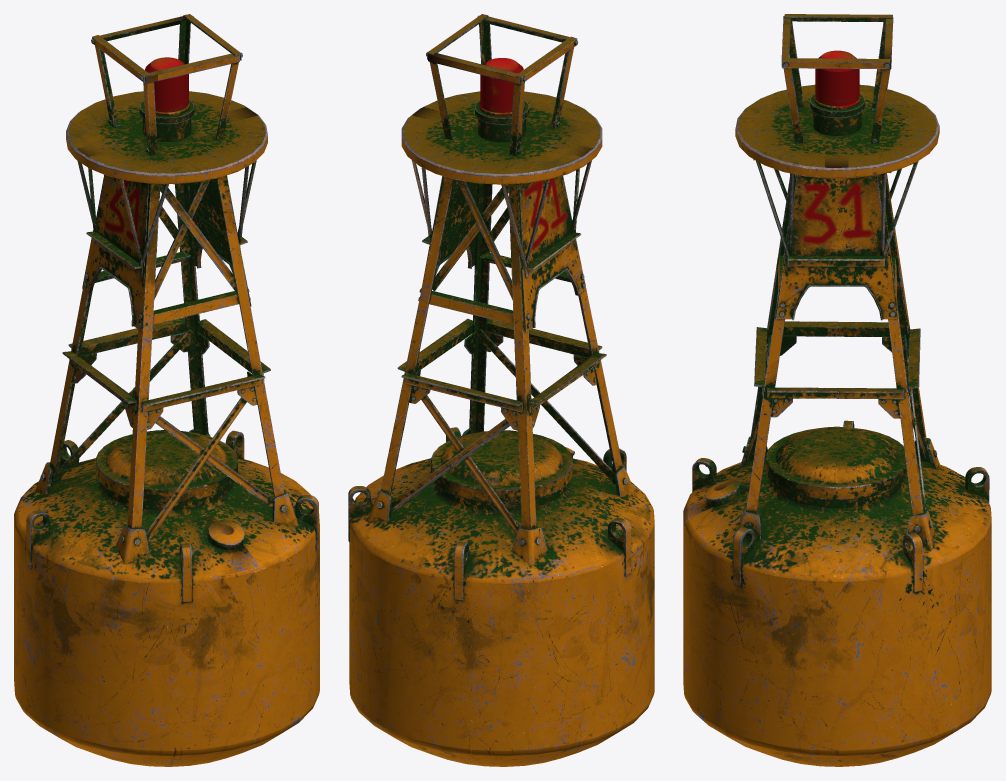
Rendered from buoy.glb.
The picture shows the model from 3 angles, left to right: view 1: azimuth 30°, elevation 25°; view 2: azimuth 150°, elevation 25°; view 3: azimuth 270°, elevation 25°; orthographic projection.
Parts seen in each view (by area): view 1: buoy; view 2: buoy; view 3: buoy.
Part boxes in pixels (x1,y1,x2,y2): buoy: (14, 14, 319, 766); buoy: (348, 14, 654, 766); buoy: (683, 14, 991, 766).
Bounding box in the file's own units: 2 × 5.06 × 1.99.
Materials: 1 (1 with a texture image).
